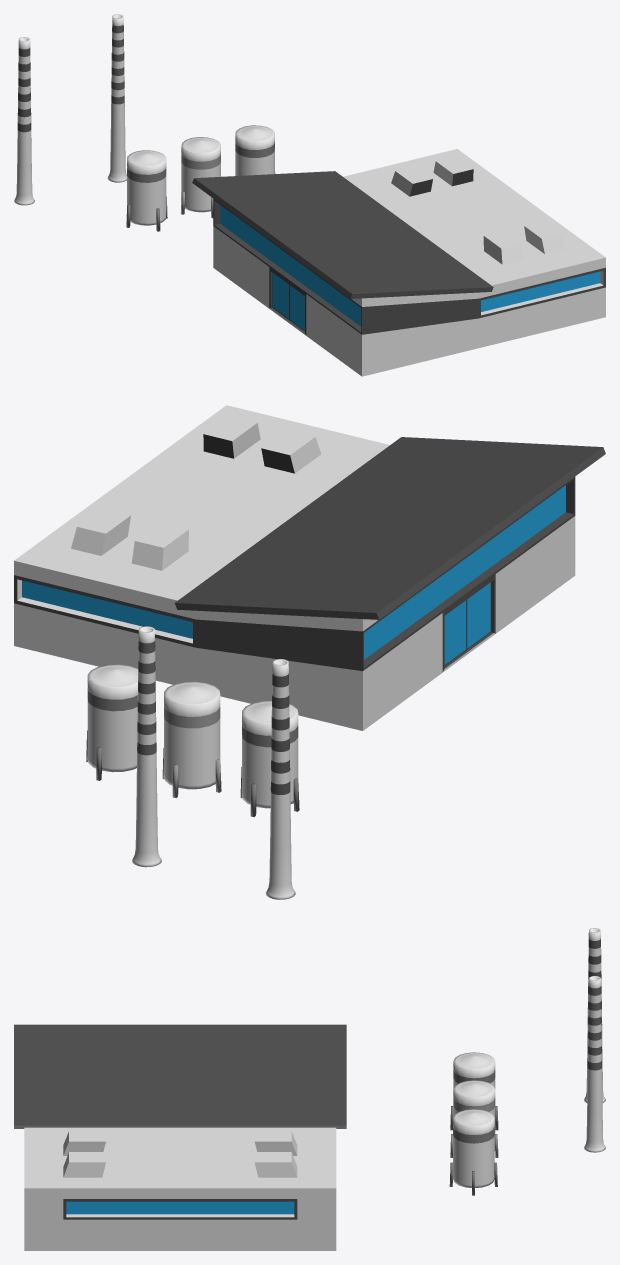
Rendered from industrial1.fbx.
3 renders of one model, top to bottom at view 1: azimuth 30°, elevation 25°; view 2: azimuth 150°, elevation 25°; view 3: azimuth 270°, elevation 25°, orthographic. The views are drawn at different scales.
Visible parts, largest first — view 1: Cube.001, Cylinder.003, Cylinder.004, Cylinder.002, Cylinder, Cylinder.005; view 2: Cube.001, Cylinder.004, Cylinder.005, Cylinder, Cylinder.002, Cylinder.003; view 3: Cube.001, Cylinder.005, Cylinder, Cylinder.004, Cylinder.003, Cylinder.002.
Boxes of the visible parts, x1=… form: Cube.001: x1=192, y1=149, x2=605, y2=376; Cylinder.003: x1=126, y1=150, x2=167, y2=231; Cylinder.004: x1=180, y1=137, x2=220, y2=218; Cylinder.002: x1=14, y1=37, x2=34, y2=205; Cylinder: x1=107, y1=14, x2=126, y2=182; Cylinder.005: x1=235, y1=125, x2=275, y2=175; Cube.001: x1=14, y1=405, x2=605, y2=730; Cylinder.004: x1=162, y1=681, x2=221, y2=797; Cylinder.005: x1=86, y1=664, x2=138, y2=780; Cylinder: x1=132, y1=626, x2=161, y2=867; Cylinder.002: x1=265, y1=659, x2=295, y2=899; Cylinder.003: x1=240, y1=700, x2=299, y2=816; Cube.001: x1=14, y1=1024, x2=346, y2=1250; Cylinder.005: x1=449, y1=1109, x2=497, y2=1195; Cylinder: x1=584, y1=976, x2=605, y2=1152; Cylinder.004: x1=450, y1=1080, x2=498, y2=1157; Cylinder.003: x1=450, y1=1052, x2=498, y2=1130; Cylinder.002: x1=584, y1=928, x2=605, y2=1102.
Bounding box in the file's own units: 9051 × 4382 × 13871.
